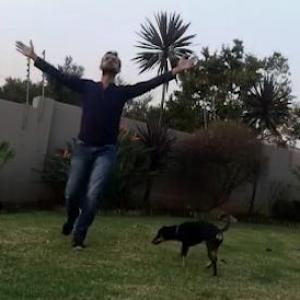takeoff: (17, 48, 174, 230)
